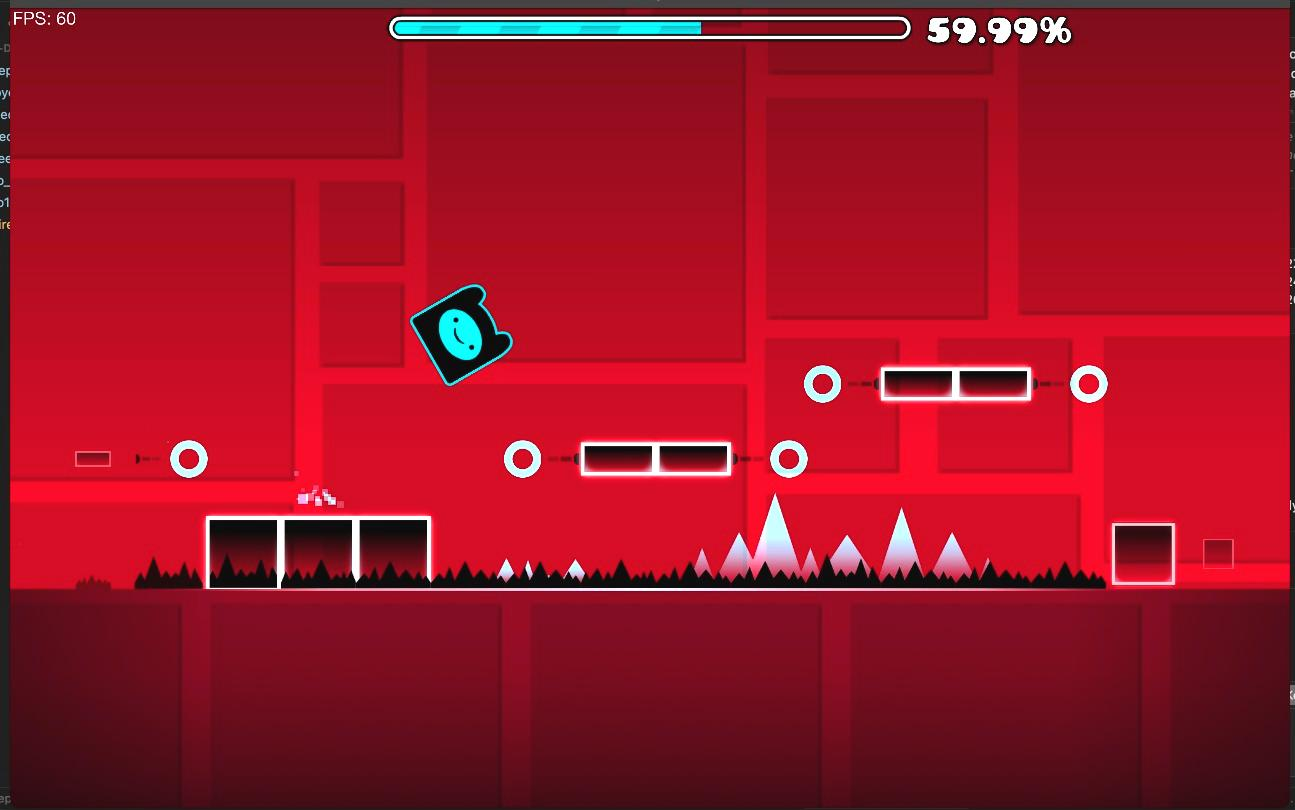block: (210, 520, 432, 590), (1117, 526, 1176, 586)
platform: (586, 446, 726, 476), (886, 370, 1030, 399)
player: (411, 285, 511, 385)
spike: (432, 514, 1104, 586)
